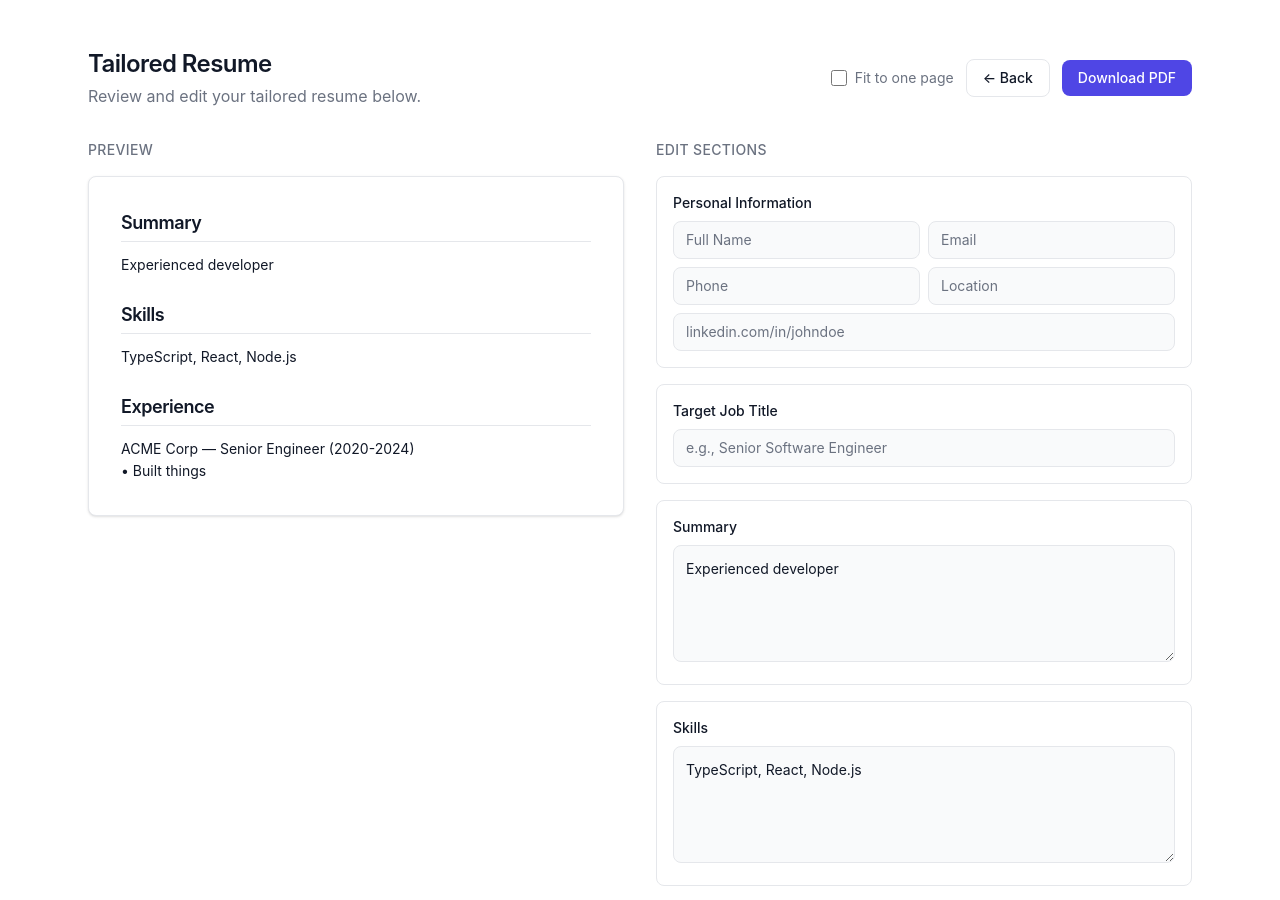
Test: ResultPage › persists edits to sessionStorage
Note: Section textareas start after 6 input fields
Replace the text in the text box labelled "Summary" with "New content" at (924, 604), box [673,545,1175,662]
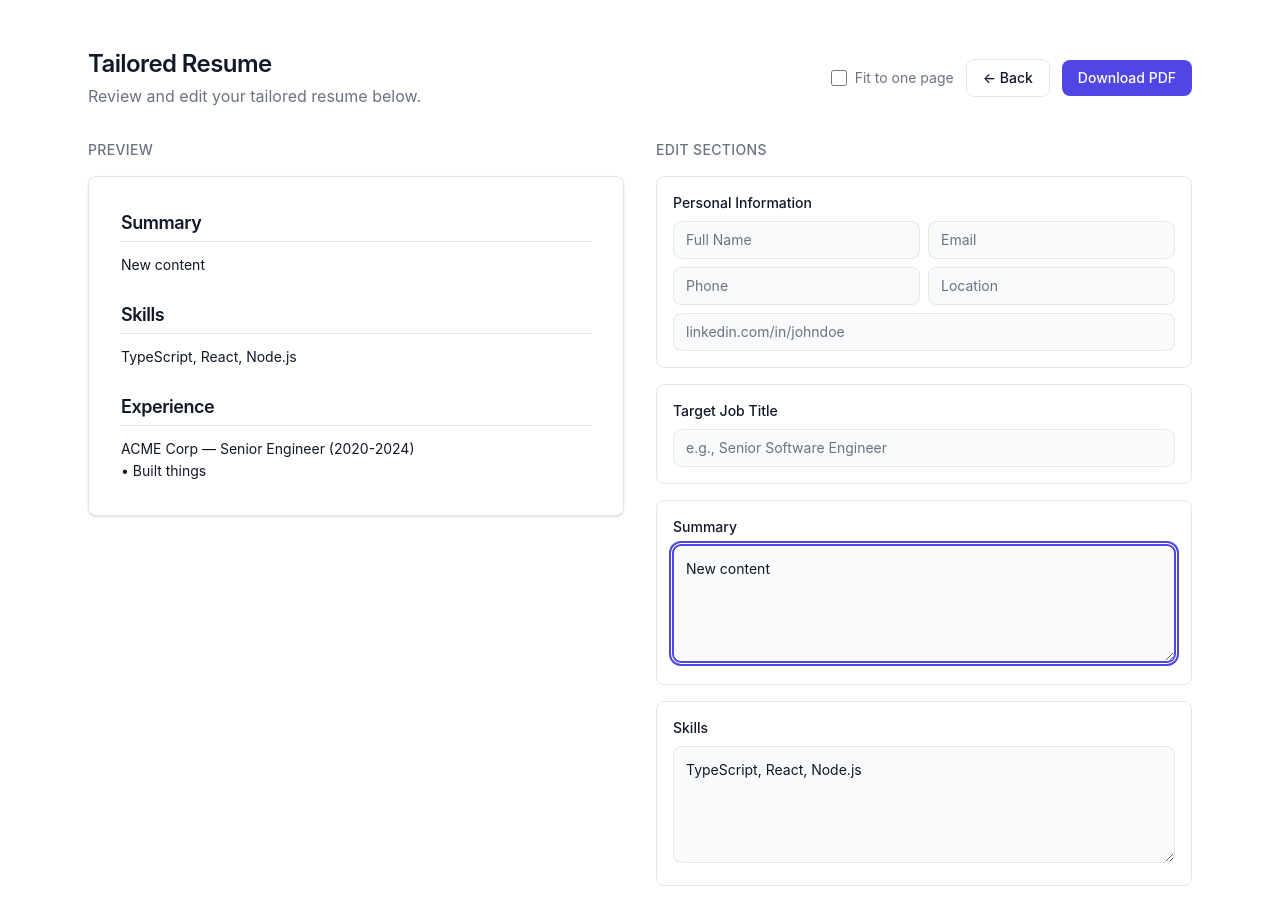
Check: the text "New content" is shown, box [121,256,205,273]
